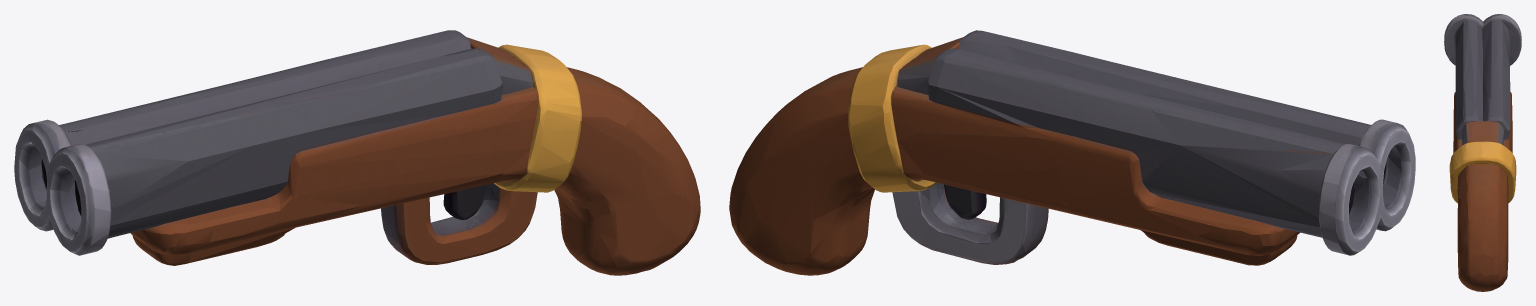
Rendered from margot_waffe_reduziert.glb.
3 views of the same model, side by side, from view 1: azimuth 30°, elevation 25°; view 2: azimuth 150°, elevation 25°; view 3: azimuth 270°, elevation 25° (orthographic). The views are drawn at different scales.
Visible parts, largest first — view 1: output_unwrapped; view 2: output_unwrapped; view 3: output_unwrapped.
Part boxes in pixels (x1,y1,x2,y2): output_unwrapped: [14, 30, 700, 275]; output_unwrapped: [729, 30, 1415, 275]; output_unwrapped: [1444, 14, 1521, 291].
Bounding box in the file's own units: 1.9 × 0.7621 × 0.3995.
Materials: 1 (1 with a texture image).
